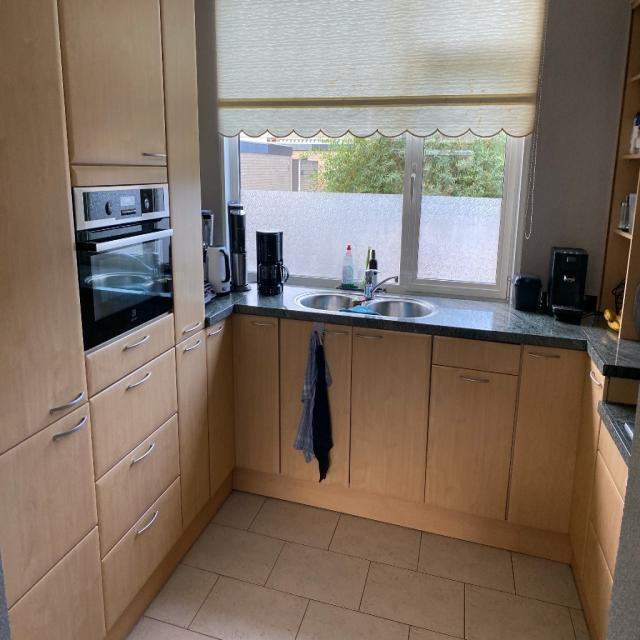cabinet_door: (0, 0, 87, 414), (69, 0, 164, 162), (0, 416, 90, 550), (282, 327, 351, 490), (354, 334, 423, 491), (435, 374, 510, 510), (522, 351, 576, 525), (234, 318, 280, 473), (106, 512, 176, 578), (102, 442, 177, 503), (182, 335, 209, 503), (99, 375, 173, 436), (92, 320, 172, 368), (210, 323, 234, 477), (433, 340, 519, 371)
handle: (51, 416, 90, 444), (46, 390, 85, 416), (133, 510, 161, 541), (128, 445, 156, 471), (123, 372, 153, 396), (354, 331, 389, 350), (121, 334, 151, 355), (198, 326, 228, 345), (460, 373, 492, 390), (530, 349, 564, 364), (320, 327, 354, 340), (181, 315, 203, 335), (140, 147, 166, 163), (182, 337, 202, 357), (246, 320, 278, 332)
